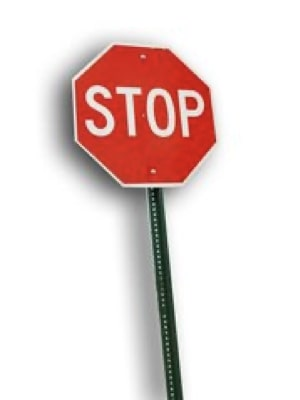StopSign: (70, 41, 221, 191)
